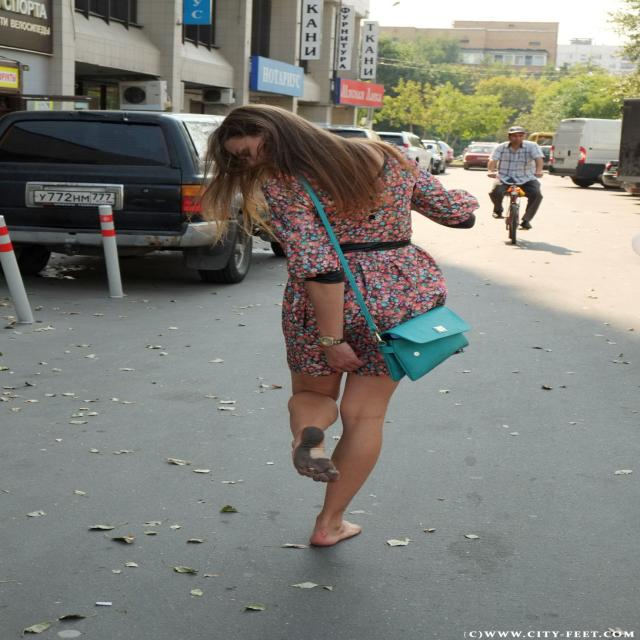Barefoots: (292, 426, 340, 483), (309, 520, 362, 546)
